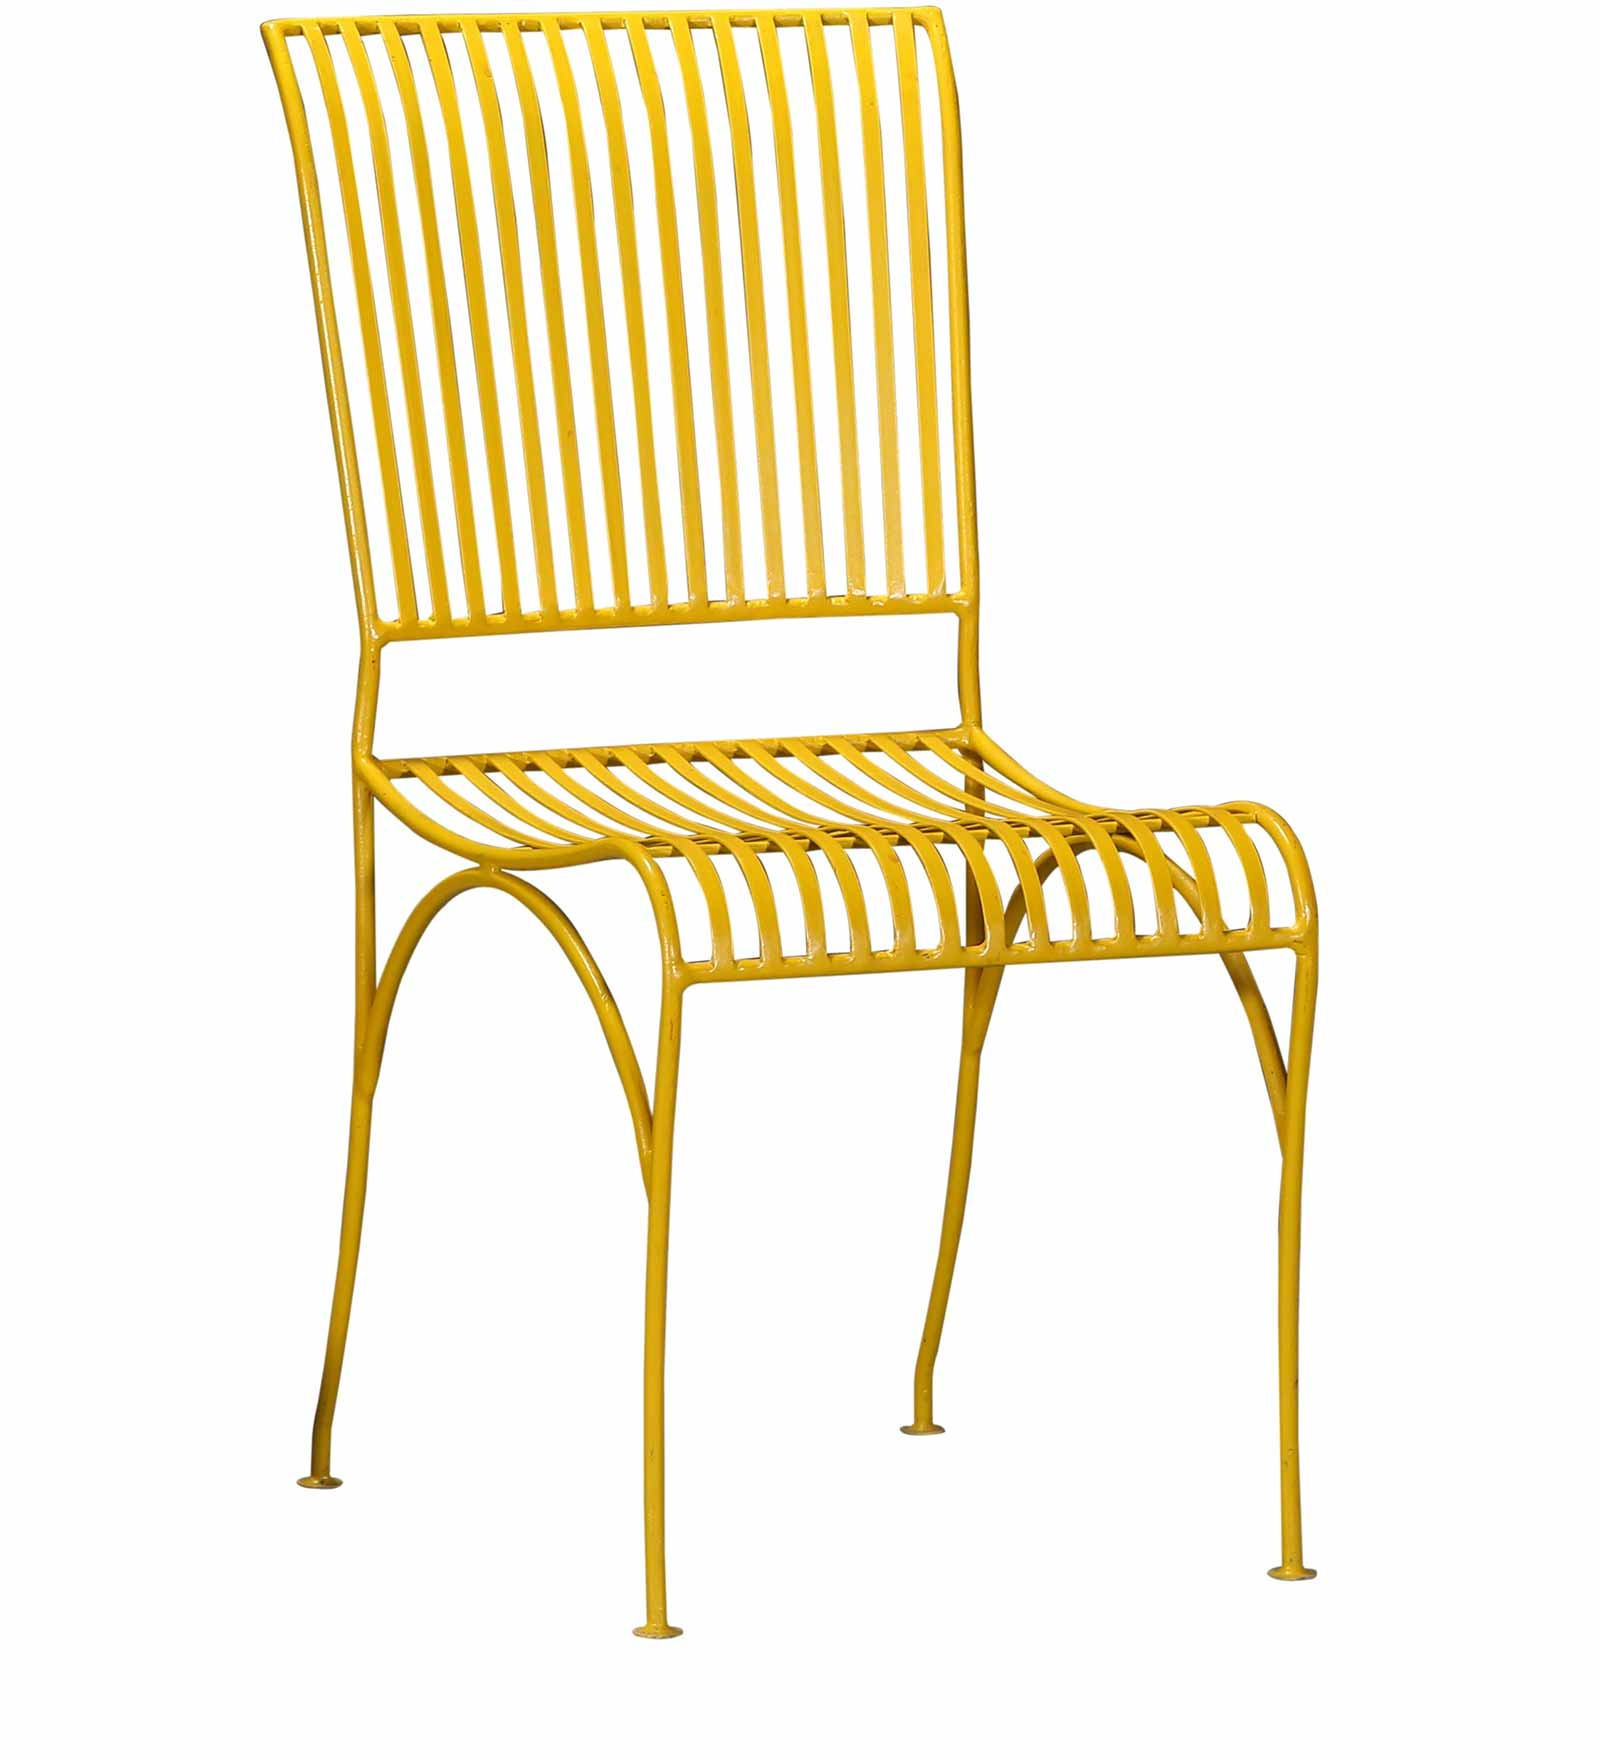Lisheen Outdoor Iron Chair in Yellow Color by Bohemiana: (233, 15, 1382, 1689)
